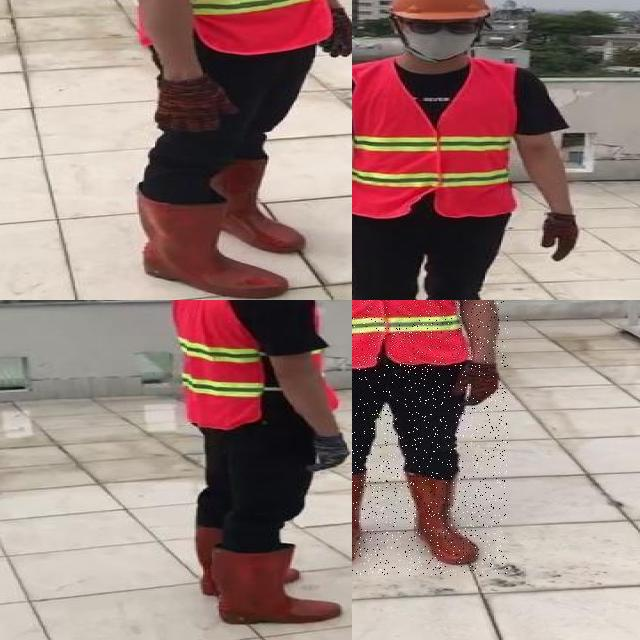boots: (134, 183, 288, 298), (210, 544, 342, 625), (182, 520, 318, 596), (210, 152, 306, 252), (408, 472, 476, 566), (352, 474, 366, 567)
face_mask: (400, 14, 482, 61)
glasses: (400, 12, 485, 38)
hand_glove: (151, 76, 237, 134), (308, 435, 352, 480), (542, 214, 581, 261), (322, 11, 352, 60)
head_helmet: (380, 0, 492, 21)
person: (92, 0, 352, 300), (352, 0, 592, 300), (155, 300, 352, 640), (352, 300, 508, 576)
vest: (352, 61, 513, 219), (173, 300, 340, 428), (131, 0, 334, 54), (352, 300, 469, 368)
